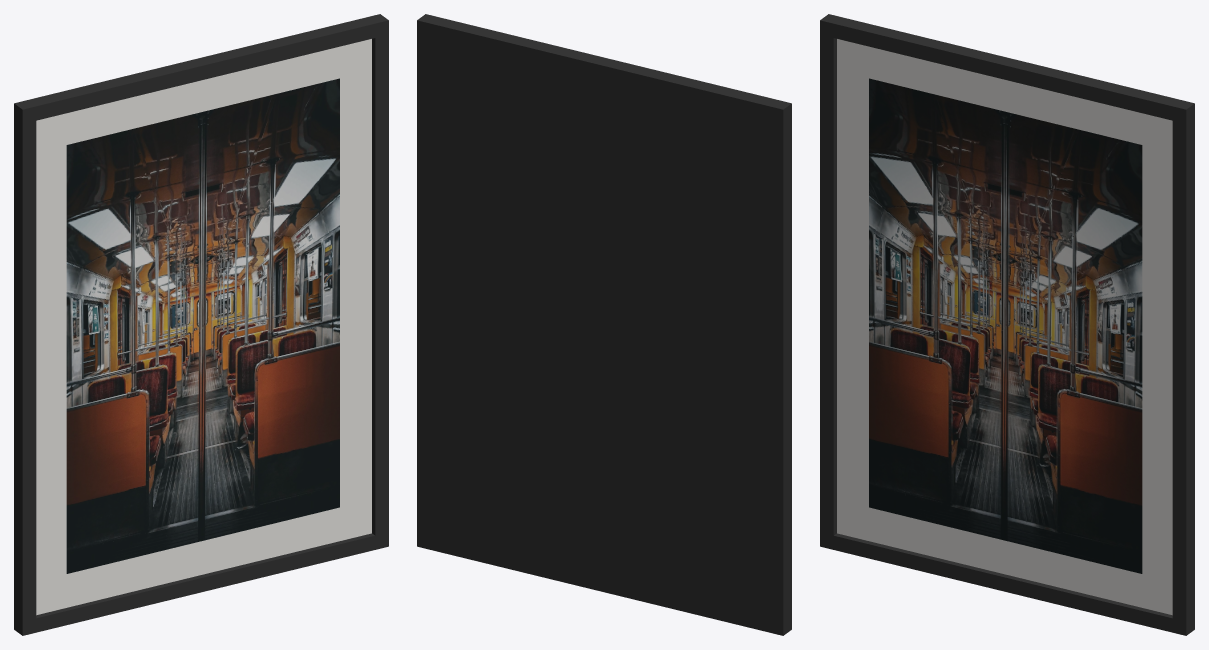
The model's file is vagnen-60.gltf.
The picture shows the model from 3 angles, left to right: view 1: azimuth 30°, elevation 25°; view 2: azimuth 150°, elevation 25°; view 3: azimuth 330°, elevation 25°; orthographic projection.
Visible parts, largest first — view 1: tavla; view 2: tavla; view 3: tavla.
Part boxes in pixels (<box>): tavla: <box>14,14,388,635</box>; tavla: <box>417,14,791,635</box>; tavla: <box>820,14,1194,635</box>.
Bounding box in the file's own units: 0.536 × 0.736 × 0.022.
3 materials, 1 textured.
